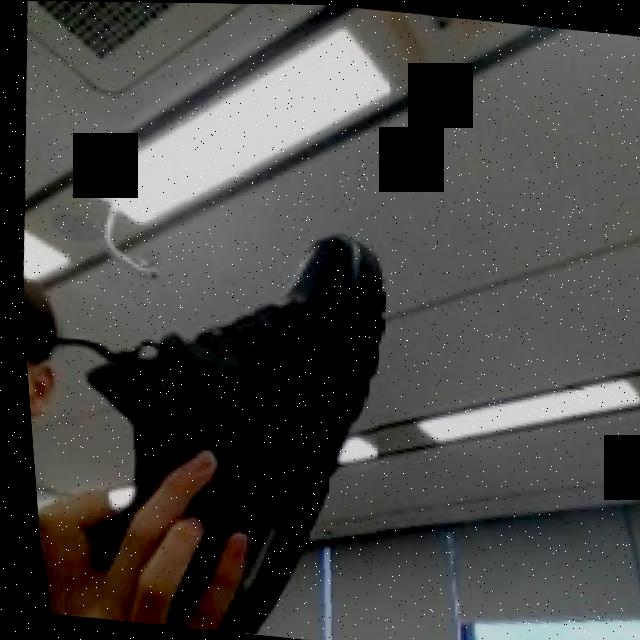shoe: (18, 187, 402, 640)
